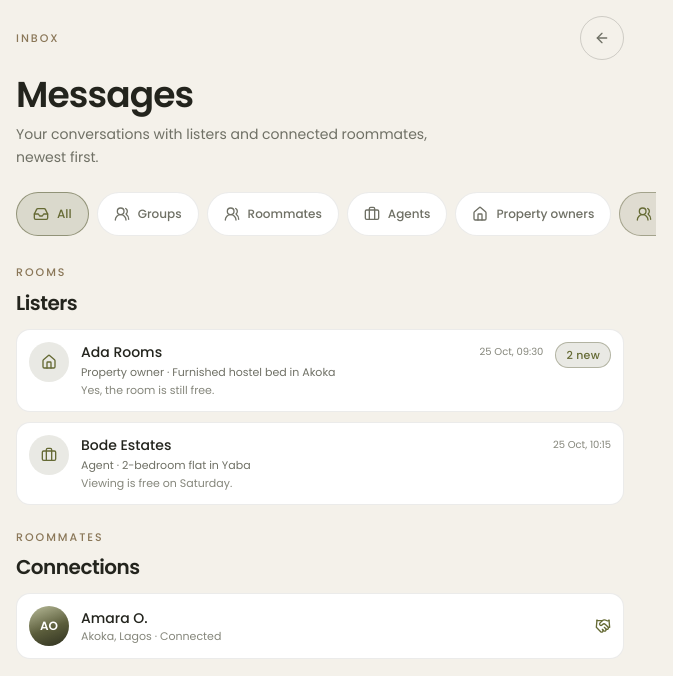
Test case: Messages inbox › filters the inbox by agents, property owners and roommates
Expected: the text "Ada Rooms" is shown, top-left (81, 342), bottom-right (162, 362)
Expected: the text "Bode Estates" is shown, top-left (81, 435), bottom-right (171, 455)
Click the button "Agents" at (397, 214), box top-left (347, 192), bottom-right (447, 236)
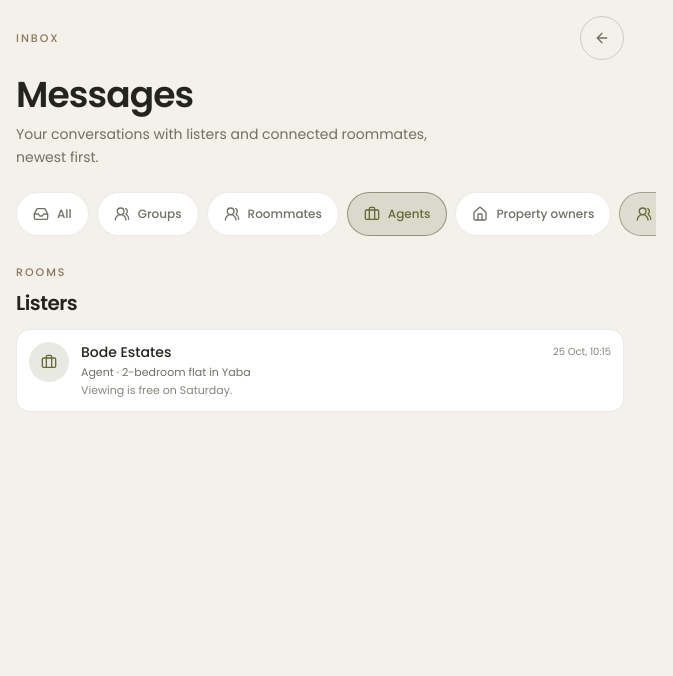
Expected: the text "Bode Estates" is shown, top-left (81, 342), bottom-right (171, 362)
Expected: the button "Ada Rooms" is gone
Click the button "Property owners" at (533, 214), box top-left (455, 192), bottom-right (611, 236)
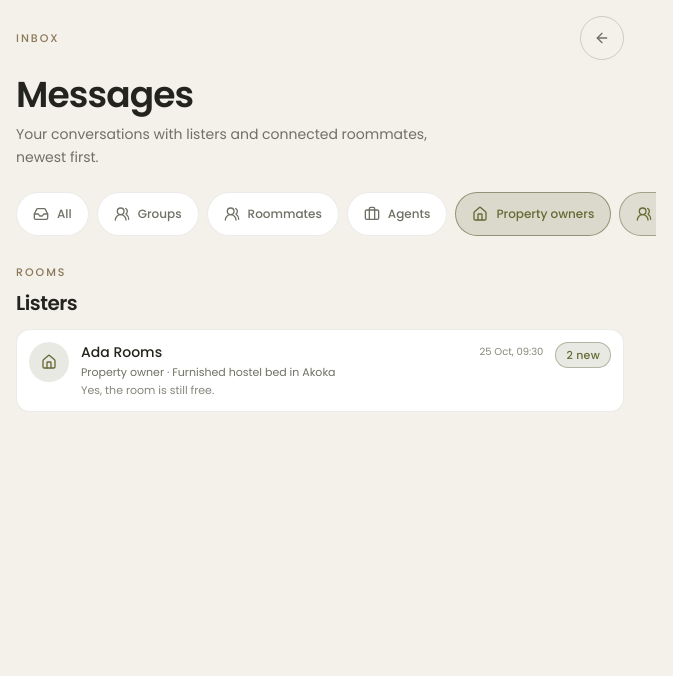
Expected: the text "Ada Rooms" is shown, top-left (81, 342), bottom-right (162, 362)
Expected: the button "Bode Estates" is gone
Click the button "Roommates" at (273, 214), box top-left (207, 192), bottom-right (339, 236)
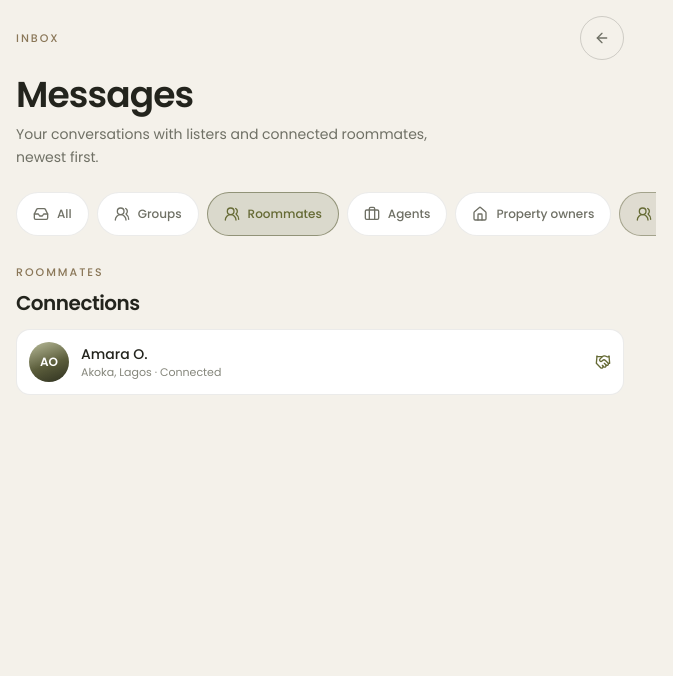
Expected: the link with aria-label "Chat with Amara O." is shown, top-left (16, 329), bottom-right (624, 395)
Expected: the button "Ada Rooms" is gone
Click the button "All" at (52, 214), box top-left (16, 192), bottom-right (89, 236)
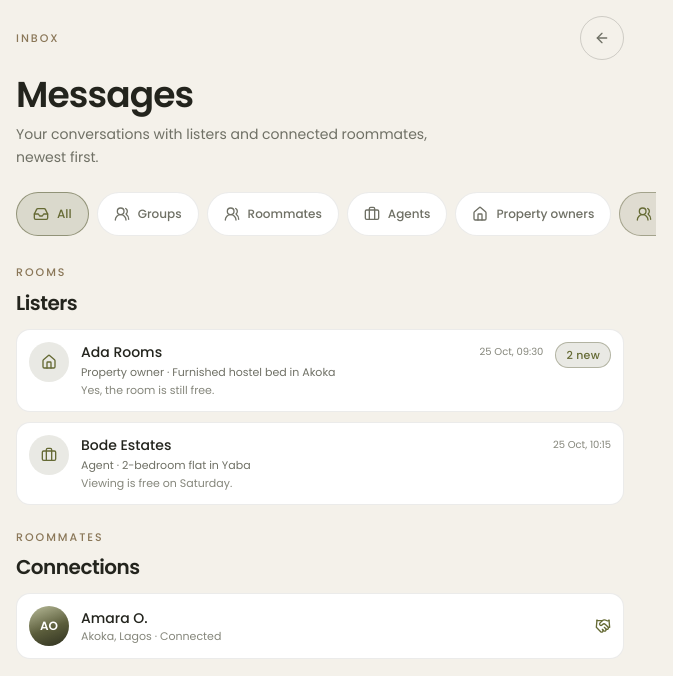
Expected: the link with aria-label "Chat with Amara O." is shown, top-left (16, 593), bottom-right (624, 659)
Expected: the text "Ada Rooms" is shown, top-left (81, 342), bottom-right (162, 362)
Expected: the text "Bode Estates" is shown, top-left (81, 435), bottom-right (171, 455)
